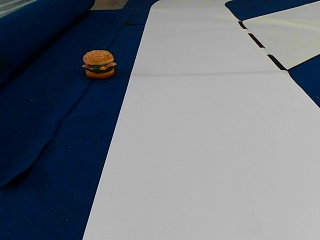burger: (82, 48, 115, 78)
